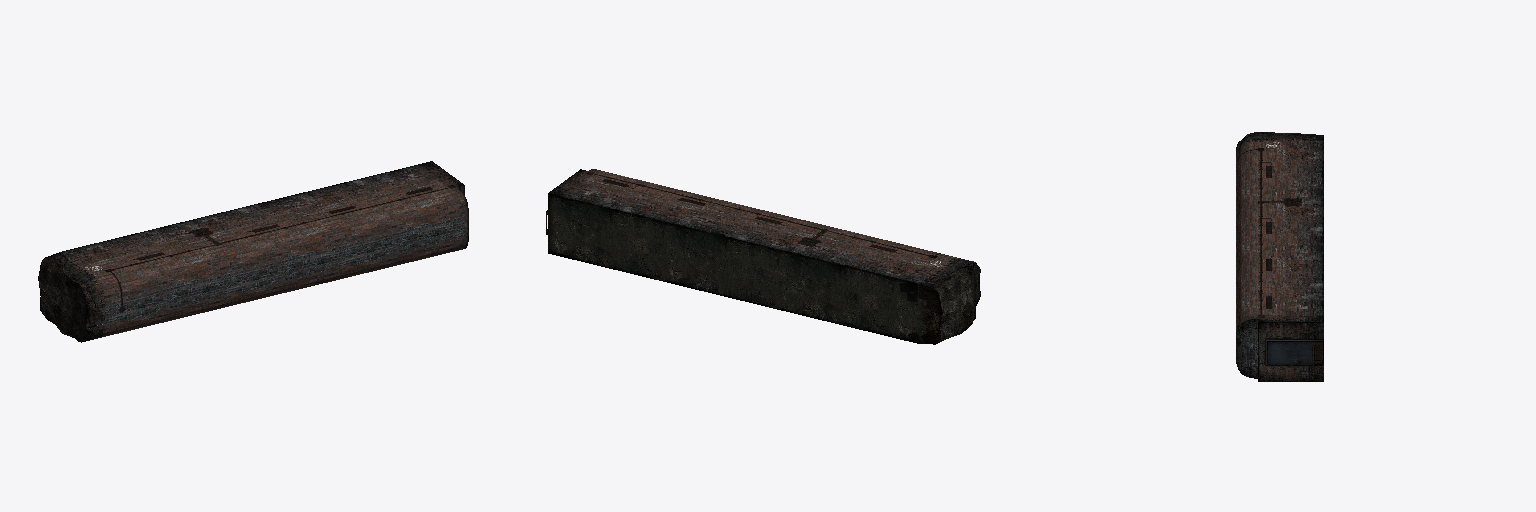
3 renders of one model, left to right at view 1: azimuth 30°, elevation 25°; view 2: azimuth 150°, elevation 25°; view 3: azimuth 270°, elevation 25°, orthographic.
Visible parts, largest first — view 1: tdr_d_hallway.000_tdr_d_hallway.147; view 2: tdr_d_hallway.000_tdr_d_hallway.147; view 3: tdr_d_hallway.000_tdr_d_hallway.147.
Part boxes in pixels (x1,y1,x2,y2): tdr_d_hallway.000_tdr_d_hallway.147: (38,161,468,342); tdr_d_hallway.000_tdr_d_hallway.147: (546,169,980,344); tdr_d_hallway.000_tdr_d_hallway.147: (1236,132,1323,381).
Size of the model in its own units: 7116 by 1033 by 1361.
41 materials, 7 textured.